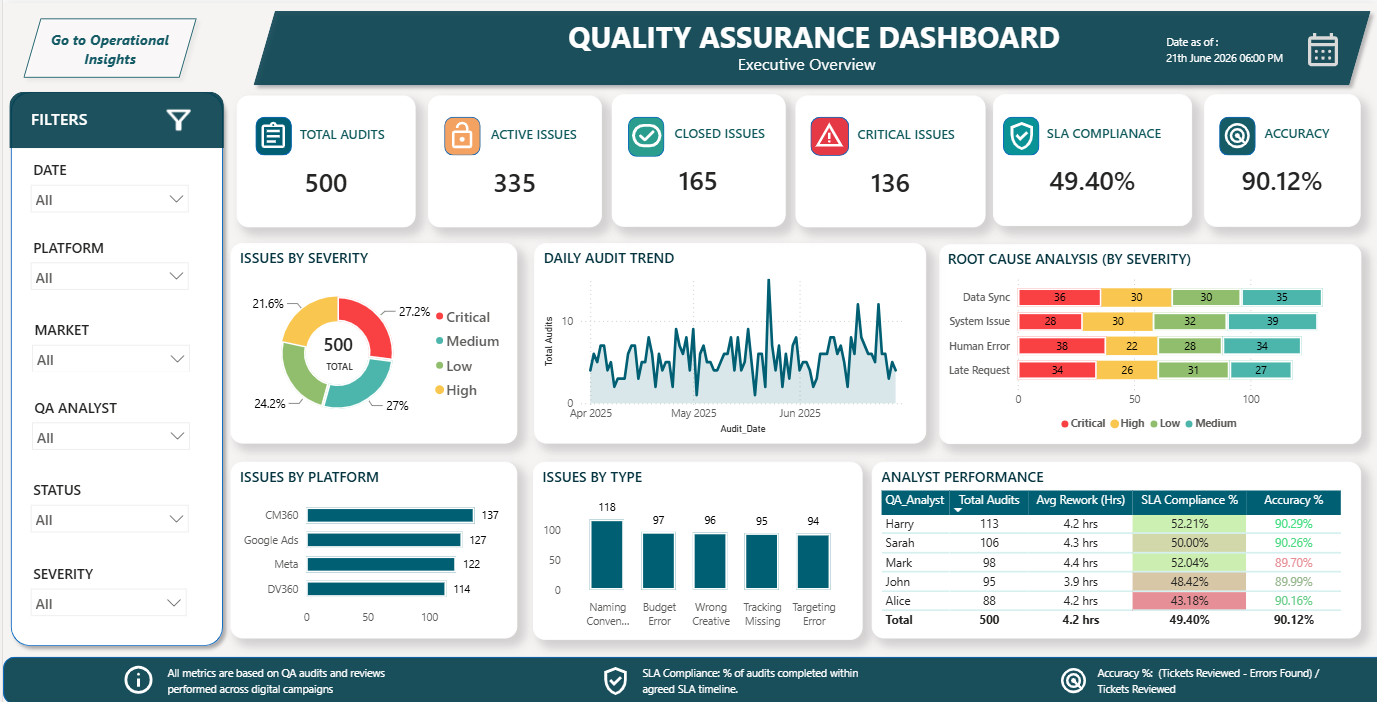

What the dashboard file says about the page in this screenshot:
{"tool":"powerbi","page":{"name":"EXECUTIVE OVERVIEW","canvas":[1570,800],"ordinal":0},"visuals":[{"type":"shape","box":[0,92.9,260,650],"z":0,"group":"g10"},{"type":"group","id":"g1","title":"Group 8","box":[267.1,105.7,204.3,150],"z":0,"group":"g9"},{"type":"donutChart","title":"ISSUES BY SEVERITY","fields":{"Category":["Campaign_QA_Audit.Severity"],"Y":["CountNonNull(Campaign_QA_Audit.Campaign_ID)"]},"box":[260,274.3,327.1,228.6],"z":0},{"type":"slicer","fields":{"Values":["Campaign_QA_Audit.Severity"]},"box":[21.2,635.5,197.7,85.3],"z":0,"group":"g12"},{"type":"group","id":"g2","title":"Group 3","box":[277.1,0,1292.9,102.9],"z":1000},{"type":"shape","box":[7,101.1,245.1,64.6],"z":1000,"group":"g10"},{"type":"group","id":"g3","title":"Group 9","box":[485.7,105.7,198.6,150],"z":1000,"group":"g9"},{"type":"slicer","fields":{"Values":["Campaign_QA_Audit.Platform"]},"box":[21.2,263.2,200.4,88.4],"z":1000,"group":"g12"},{"type":"group","id":"g4","title":"Group 11","box":[695.7,104.3,198.1,151.5],"z":2000,"group":"g9"},{"type":"barChart","title":"ROOT CAUSE ANALYSIS (BY SEVERITY)","fields":{"Category":["Campaign_QA_Audit.Root_Cause"],"Series":["Campaign_QA_Audit.Severity"],"Y":["CountNonNull(Campaign_QA_Audit.Campaign_ID)"]},"box":[1068.3,275,481.7,228.3],"z":2000},{"type":"slicer","fields":{"Values":["Campaign_QA_Audit.QA_Analyst"]},"box":[22.6,446.2,200,70],"z":2000,"group":"g12"},{"type":"group","id":"g5","title":"Group 4","box":[0,92.9,260,650],"z":3000},{"type":"group","id":"g6","title":"Group 12","box":[904.4,105.3,217.1,150],"z":3000,"group":"g9"},{"type":"slicer","fields":{"Values":["Campaign_QA_Audit.Status"]},"box":[21.2,539.8,200.4,85.4],"z":3000,"group":"g12"},{"type":"group","id":"g7","title":"Group 13","box":[1130,104.3,227.1,150],"z":4000,"group":"g9"},{"type":"slicer","fields":{"Values":["Campaign_QA_Audit.Market"]},"box":[22.8,357.7,200,64.3],"z":4000,"group":"g12"},{"type":"barChart","title":"ISSUES BY PLATFORM","fields":{"Category":["Campaign_QA_Audit.Platform"],"Y":["CountNonNull(Campaign_QA_Audit.Campaign_ID)"]},"box":[260,522.9,327.1,201.4],"z":4000},{"type":"group","id":"g8","title":"Group 14","box":[1371.4,104.3,178.6,151.4],"z":5000,"group":"g9"},{"type":"slicer","fields":{"Values":["Campaign_QA_Audit.Audit_Date"]},"box":[21.2,174.8,200.4,80.7],"z":5000,"group":"g12"},{"type":"columnChart","title":"ISSUES BY TYPE","fields":{"Category":["Campaign_QA_Audit.Issue_Type"],"Y":["CountNonNull(Campaign_QA_Audit.Campaign_ID)"]},"box":[604.3,522.9,375.7,202.9],"z":5000},{"type":"pivotTable","title":"ANALYST PERFORMANCE","fields":{"Rows":["Campaign_QA_Audit.QA_Analyst"],"Values":["Campaign_QA_Audit.Total Audits","Campaign_QA_Audit.Avg Rework Label","Campaign_QA_Audit.SLA Compliance %","Campaign_QA_Audit.Accuracy %"]},"box":[991.7,523.3,558.3,201.7],"z":6000},{"type":"lineChart","title":"DAILY AUDIT TREND","fields":{"Category":["Campaign_QA_Audit.Audit_Date"],"Y":["Campaign_QA_Audit.Total Audits"]},"box":[605.7,274.3,447.1,228.6],"z":7000},{"type":"shape","box":[0,745.7,1587.1,54.3],"z":8000},{"type":"cardVisual","fields":{"Data":["Campaign_QA_Audit.SLA Compliance %"]},"box":[1130,104.3,227.1,150],"z":9000,"group":"g7"},{"type":"cardVisual","fields":{"Data":["Campaign_QA_Audit.Total Audits"]},"box":[267.1,105.7,204.3,150],"z":9000,"group":"g15"},{"type":"cardVisual","fields":{"Data":["Campaign_QA_Audit.Open Issues"]},"box":[485.7,105.7,198.6,150],"z":9000,"group":"g3"},{"type":"image","box":[671.4,754.3,54.3,38.6],"z":9000},{"type":"shape","box":[277.1,0,1292.9,102.9],"z":10000,"group":"g2"},{"type":"cardVisual","fields":{"Data":["Campaign_QA_Audit.Accuracy %"]},"box":[1371.4,104.3,178.6,151.4],"z":10000,"group":"g8"},{"type":"image","box":[1200,755.7,44.3,34.3],"z":10000},{"type":"textbox","box":[729.7,51.7,376.4,44.1],"z":11000,"group":"g2"},{"type":"group","id":"g9","title":"Group 15","box":[267.1,104.3,1282.9,151.5],"z":11000},{"type":"cardVisual","fields":{"Data":["Campaign_QA_Audit.Closed Issues"]},"box":[695.7,104.3,198.1,151.5],"z":11000,"group":"g14"},{"type":"shape","box":[1141.4,130,41.4,44.3],"z":11000,"group":"g7"},{"type":"group","id":"g10","title":"Group 1","box":[0,92.9,260,650],"z":12000,"group":"g5"},{"type":"cardVisual","fields":{"Data":["Campaign_QA_Audit.Critical Issues"]},"box":[904.4,105.3,217.1,150],"z":12000,"group":"g11"},{"type":"shape","box":[504.3,130,41.4,44.3],"z":12000,"group":"g3"},{"type":"shape","box":[1388.5,130,41.4,44.3],"z":12000,"group":"g8"},{"type":"cardVisual","fields":{"Data":["Campaign_QA_Audit.Total Audits"]},"box":[337.1,358.6,101.4,60],"z":12000},{"type":"group","id":"g11","title":"Group 5","box":[904.4,105.3,217.1,150],"z":13000,"group":"g6"},{"type":"shape","box":[288.5,130,41.4,44.3],"z":13000,"group":"g15"},{"type":"group","id":"g12","title":"Group 2","box":[21.2,174.8,201.6,546.1],"z":13000,"group":"g5"},{"type":"textbox","box":[363,399,51,37],"z":13000},{"type":"group","id":"g13","title":"Group 6","box":[695.7,104.3,198.1,151.5],"z":14000,"group":"g4"},{"type":"textbox","box":[22.9,114.5,82.9,41.4],"z":14000,"group":"g5"},{"type":"textbox","box":[182.9,750,450,50],"z":14000},{"type":"actionButton","box":[182.9,114.5,35.7,38.6],"z":15000,"group":"g5"},{"type":"image","box":[925.4,130.6,34.3,38.6],"z":15000,"group":"g6"},{"type":"textbox","box":[724.3,750,288.6,50],"z":15000},{"type":"image","box":[1135.7,132.9,54.3,38.6],"z":16000,"group":"g7"},{"type":"textbox","box":[1244.3,750,300,50],"z":16000},{"type":"image","box":[504.3,134.3,41.4,34.3],"z":17000,"group":"g3"},{"type":"image","box":[1387.1,134.3,44.3,34.3],"z":17000,"group":"g8"},{"type":"image","box":[130,752.9,50,38.6],"z":17000},{"type":"image","box":[1484.1,25.7,45.9,55.7],"z":17002,"group":"g2"},{"type":"textbox","box":[1321.4,30,175.7,62.9],"z":18000},{"type":"shape","box":[921.4,129,44,44.5],"z":18000,"group":"g11"},{"type":"actionButton","box":[14.3,8.6,215.7,85.7],"z":19000},{"type":"shape","box":[714.3,130,41.4,45.7],"z":19000,"group":"g14"},{"type":"image","box":[715.7,124.3,40,54.3],"z":20000,"group":"g4"},{"type":"group","id":"g14","title":"Group 10","box":[695.7,104.3,198.1,151.5],"z":20001,"group":"g13"},{"type":"group","id":"g15","title":"Group 7","box":[267.1,105.7,204.3,150],"z":22000,"group":"g1"},{"type":"image","box":[290,134.3,37.1,35.7],"z":23000,"group":"g1"}]}

Visuals, with their boxes in screenshot pixels (x1, y1, x2, y2), scaled from the page's 1570x800 canvas onto the 1377x702 screenshot:
shape: left=0, top=82, right=228, bottom=652
"Group 8" group: left=234, top=93, right=413, bottom=224
"ISSUES BY SEVERITY" donutChart: left=228, top=241, right=515, bottom=441
slicer - Campaign_QA_Audit.Severity: left=19, top=558, right=192, bottom=633
"Group 3" group: left=243, top=0, right=1376, bottom=90
shape: left=6, top=89, right=221, bottom=145
"Group 9" group: left=426, top=93, right=600, bottom=224
slicer - Campaign_QA_Audit.Platform: left=19, top=231, right=194, bottom=309
"Group 11" group: left=610, top=92, right=784, bottom=224
"ROOT CAUSE ANALYSIS (BY SEVERITY)" barChart: left=937, top=241, right=1359, bottom=442
slicer - Campaign_QA_Audit.QA_Analyst: left=20, top=392, right=195, bottom=453
"Group 4" group: left=0, top=82, right=228, bottom=652
"Group 12" group: left=793, top=92, right=984, bottom=224
slicer - Campaign_QA_Audit.Status: left=19, top=474, right=194, bottom=549
"Group 13" group: left=991, top=92, right=1190, bottom=223
slicer - Campaign_QA_Audit.Market: left=20, top=314, right=195, bottom=370
"ISSUES BY PLATFORM" barChart: left=228, top=459, right=515, bottom=636
"Group 14" group: left=1203, top=92, right=1359, bottom=224
slicer - Campaign_QA_Audit.Audit_Date: left=19, top=153, right=194, bottom=224
"ISSUES BY TYPE" columnChart: left=530, top=459, right=860, bottom=637
"ANALYST PERFORMANCE" pivotTable: left=870, top=459, right=1359, bottom=636
"DAILY AUDIT TREND" lineChart: left=531, top=241, right=923, bottom=441
shape: left=0, top=654, right=1376, bottom=701
cardVisual - Campaign_QA_Audit.SLA Compliance %: left=991, top=92, right=1190, bottom=223
cardVisual - Campaign_QA_Audit.Total Audits: left=234, top=93, right=413, bottom=224
cardVisual - Campaign_QA_Audit.Open Issues: left=426, top=93, right=600, bottom=224
image: left=589, top=662, right=636, bottom=696
shape: left=243, top=0, right=1376, bottom=90
cardVisual - Campaign_QA_Audit.Accuracy %: left=1203, top=92, right=1359, bottom=224
image: left=1052, top=663, right=1091, bottom=693
textbox: left=640, top=45, right=970, bottom=84
"Group 15" group: left=234, top=92, right=1359, bottom=224
cardVisual - Campaign_QA_Audit.Closed Issues: left=610, top=92, right=784, bottom=224
shape: left=1001, top=114, right=1037, bottom=153
"Group 1" group: left=0, top=82, right=228, bottom=652
cardVisual - Campaign_QA_Audit.Critical Issues: left=793, top=92, right=984, bottom=224
shape: left=442, top=114, right=479, bottom=153
shape: left=1218, top=114, right=1254, bottom=153
cardVisual - Campaign_QA_Audit.Total Audits: left=296, top=315, right=385, bottom=367
"Group 5" group: left=793, top=92, right=984, bottom=224
shape: left=253, top=114, right=289, bottom=153
"Group 2" group: left=19, top=153, right=195, bottom=633
textbox: left=318, top=350, right=363, bottom=383
"Group 6" group: left=610, top=92, right=784, bottom=224
textbox: left=20, top=100, right=93, bottom=137
textbox: left=160, top=658, right=555, bottom=701
actionButton: left=160, top=100, right=192, bottom=134
image: left=812, top=115, right=842, bottom=148
textbox: left=635, top=658, right=888, bottom=701
image: left=996, top=117, right=1044, bottom=150
textbox: left=1091, top=658, right=1354, bottom=701
image: left=442, top=118, right=479, bottom=148
image: left=1217, top=118, right=1255, bottom=148
image: left=114, top=661, right=158, bottom=695
image: left=1302, top=23, right=1342, bottom=71
textbox: left=1159, top=26, right=1313, bottom=82
shape: left=808, top=113, right=847, bottom=152
actionButton: left=13, top=8, right=202, bottom=83
shape: left=626, top=114, right=663, bottom=154
image: left=628, top=109, right=663, bottom=157
"Group 10" group: left=610, top=92, right=784, bottom=224
"Group 7" group: left=234, top=93, right=413, bottom=224
image: left=254, top=118, right=287, bottom=149
